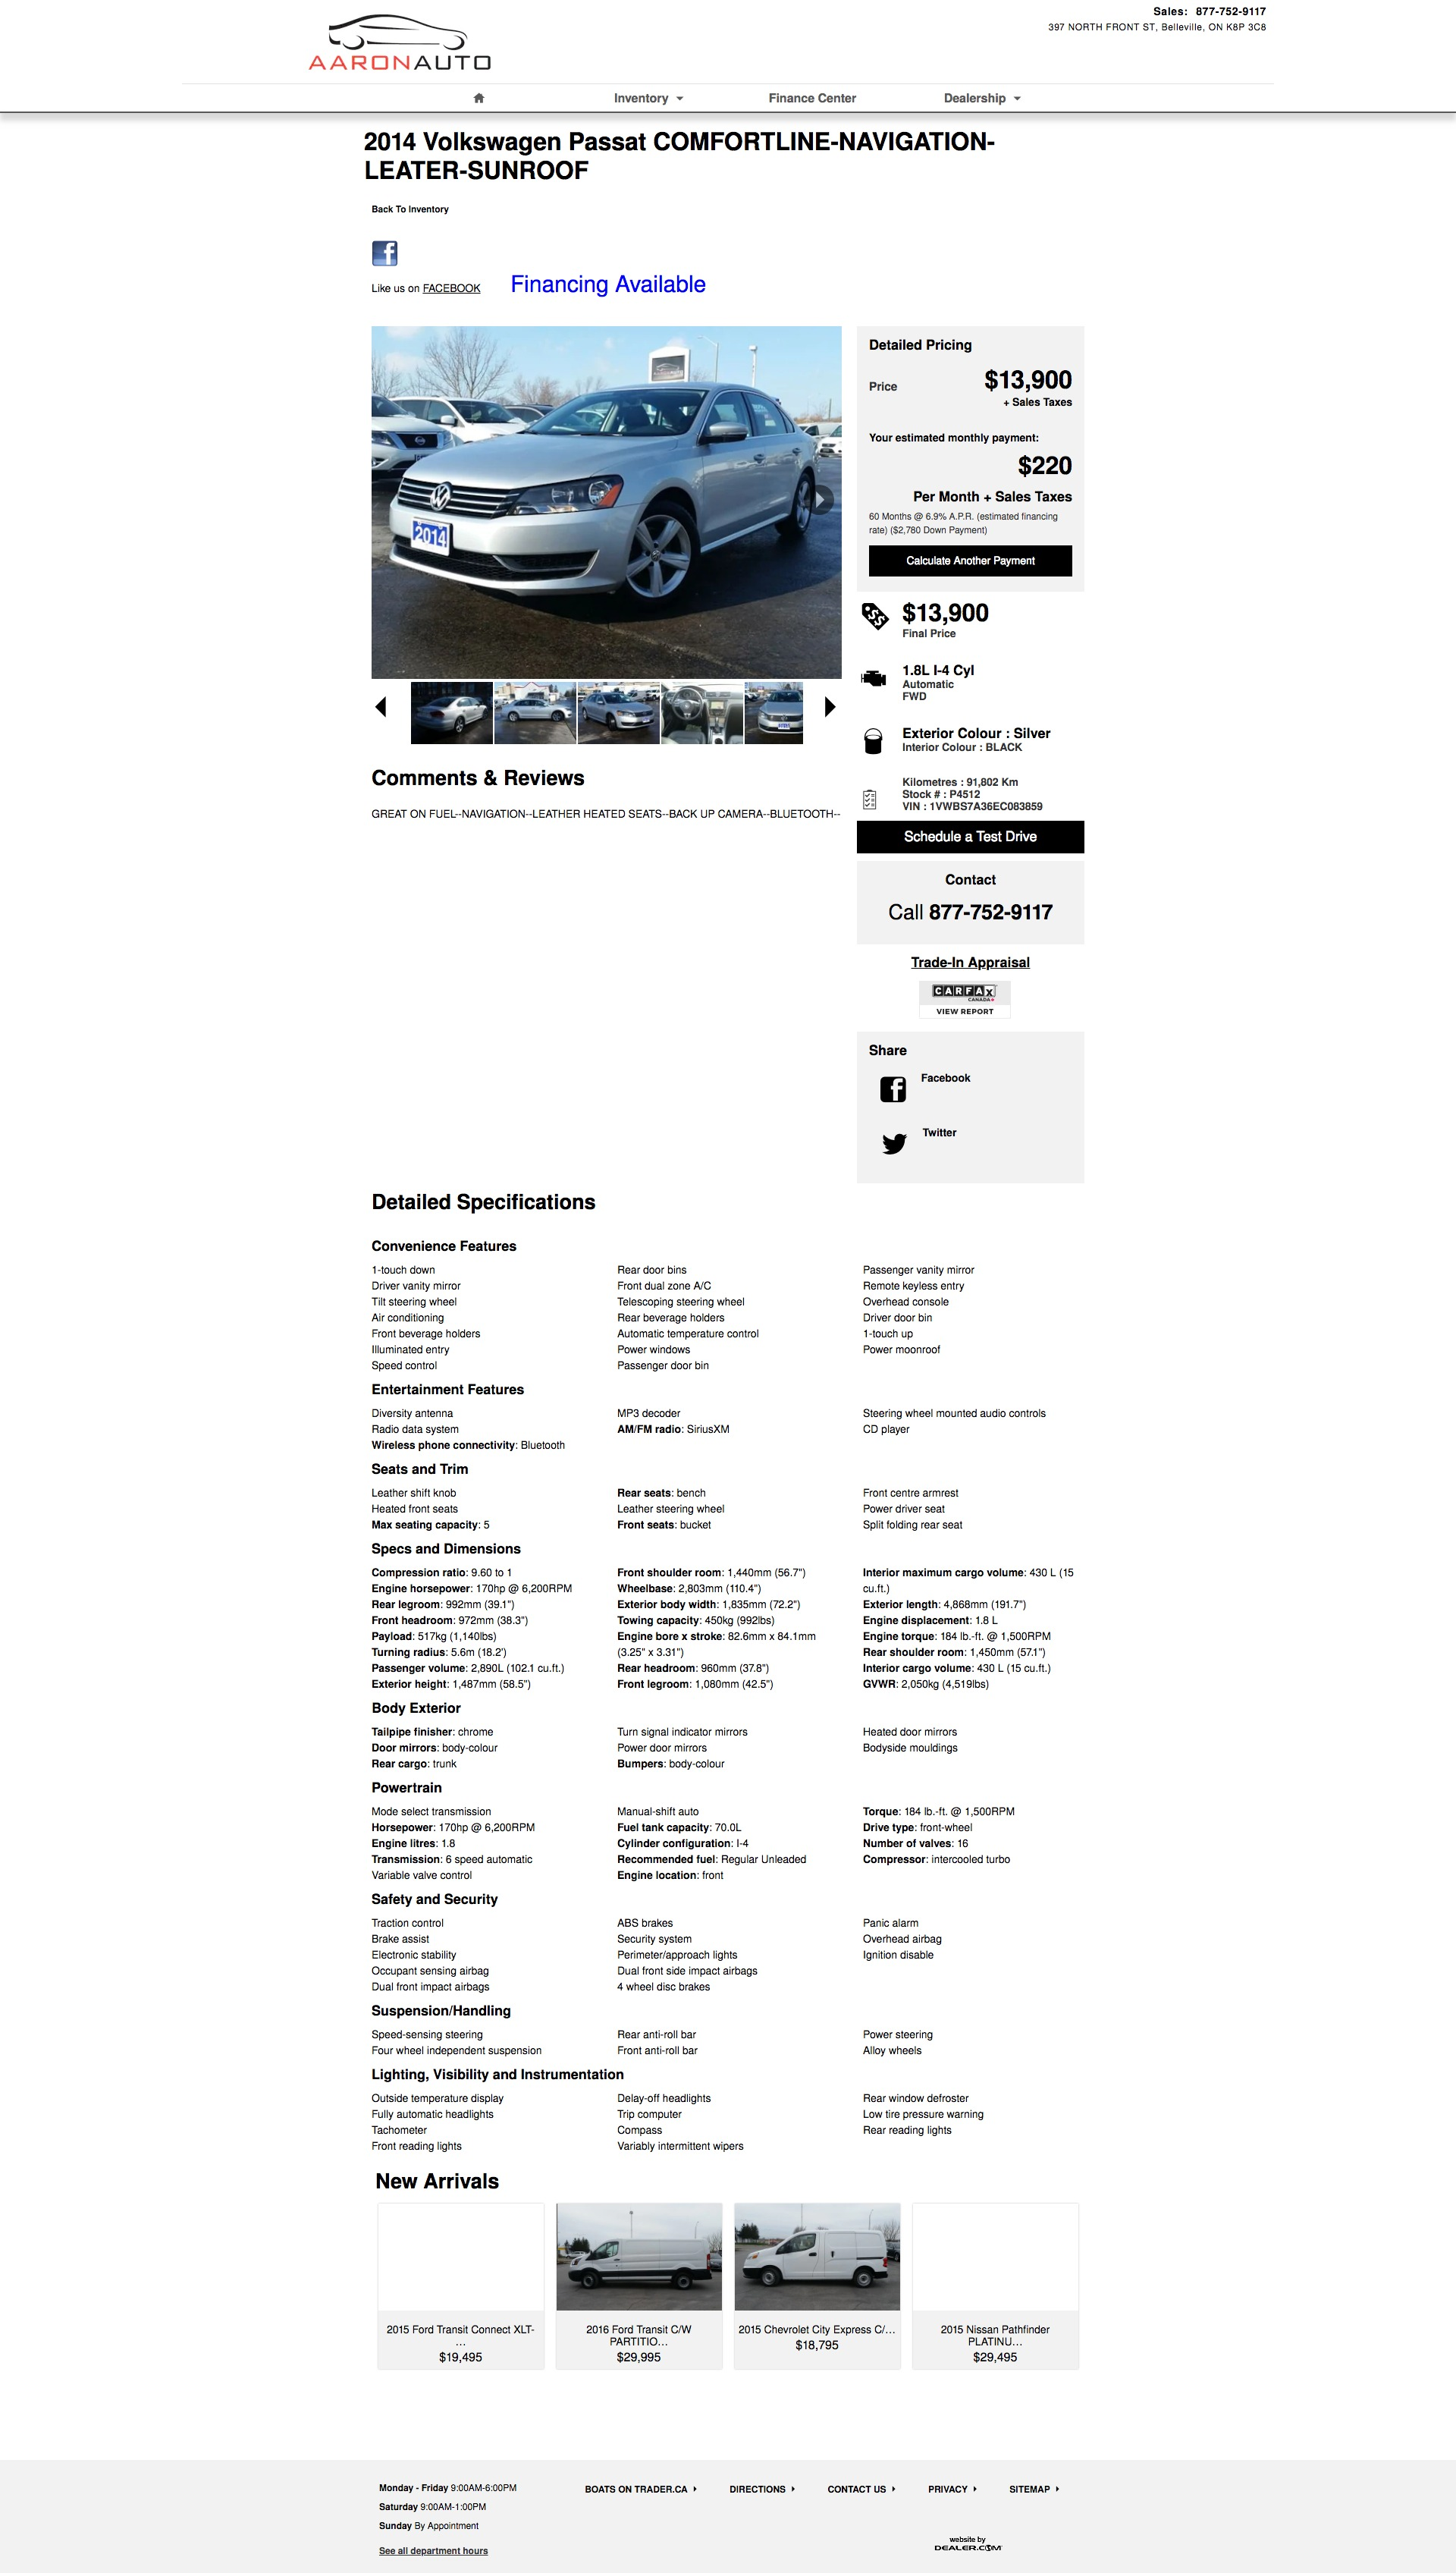car: (825, 696, 838, 719)
